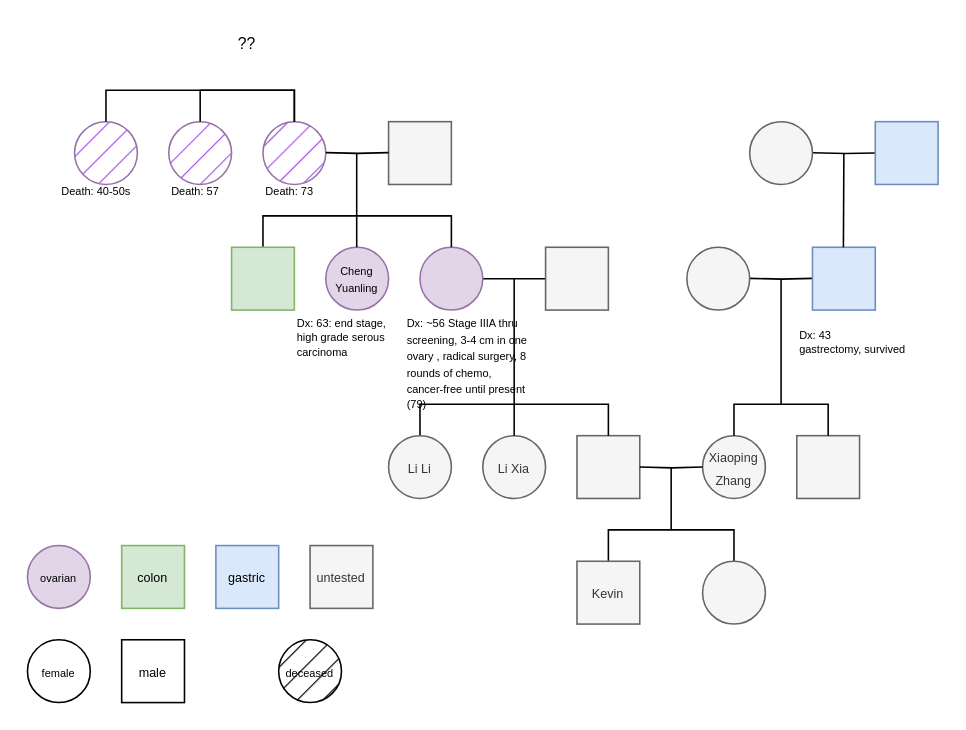
The diagram is 966 pixels wide and 730 high, and some of its shapes have lost their labels. Each missing label, with the centre of its shape:
"Cheng Yinhua" belongs at pixel 450 278.
"Jenny" belongs at pixel 733 592.
"Li Yan" belongs at pixel 607 466.
